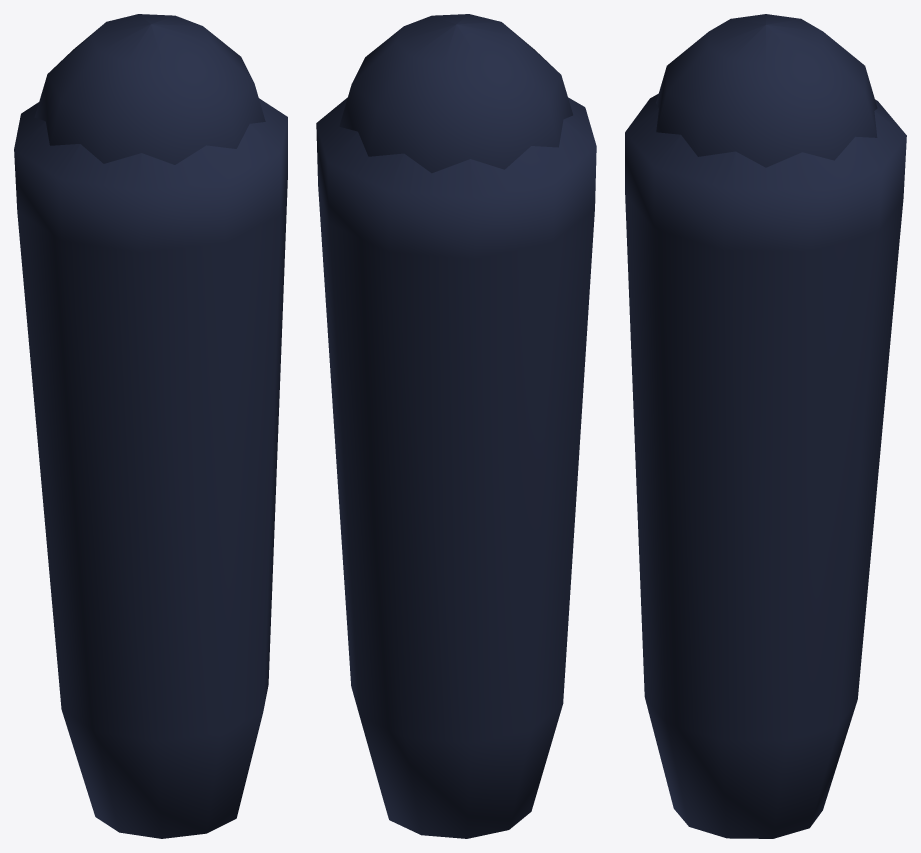
The model's file is thigh_L.obj.
3 renders of one model, left to right at view 1: azimuth 30°, elevation 25°; view 2: azimuth 150°, elevation 25°; view 3: azimuth 270°, elevation 25°, orthographic.
Visible parts, largest first — view 1: thigh_L; view 2: thigh_L; view 3: thigh_L.
Boxes of the visible parts, bbox=[...] form: thigh_L: bbox=[14, 14, 287, 838]; thigh_L: bbox=[316, 14, 596, 838]; thigh_L: bbox=[625, 14, 906, 838].
Size of the model in its own units: 0.1678 by 0.5483 by 0.175.
